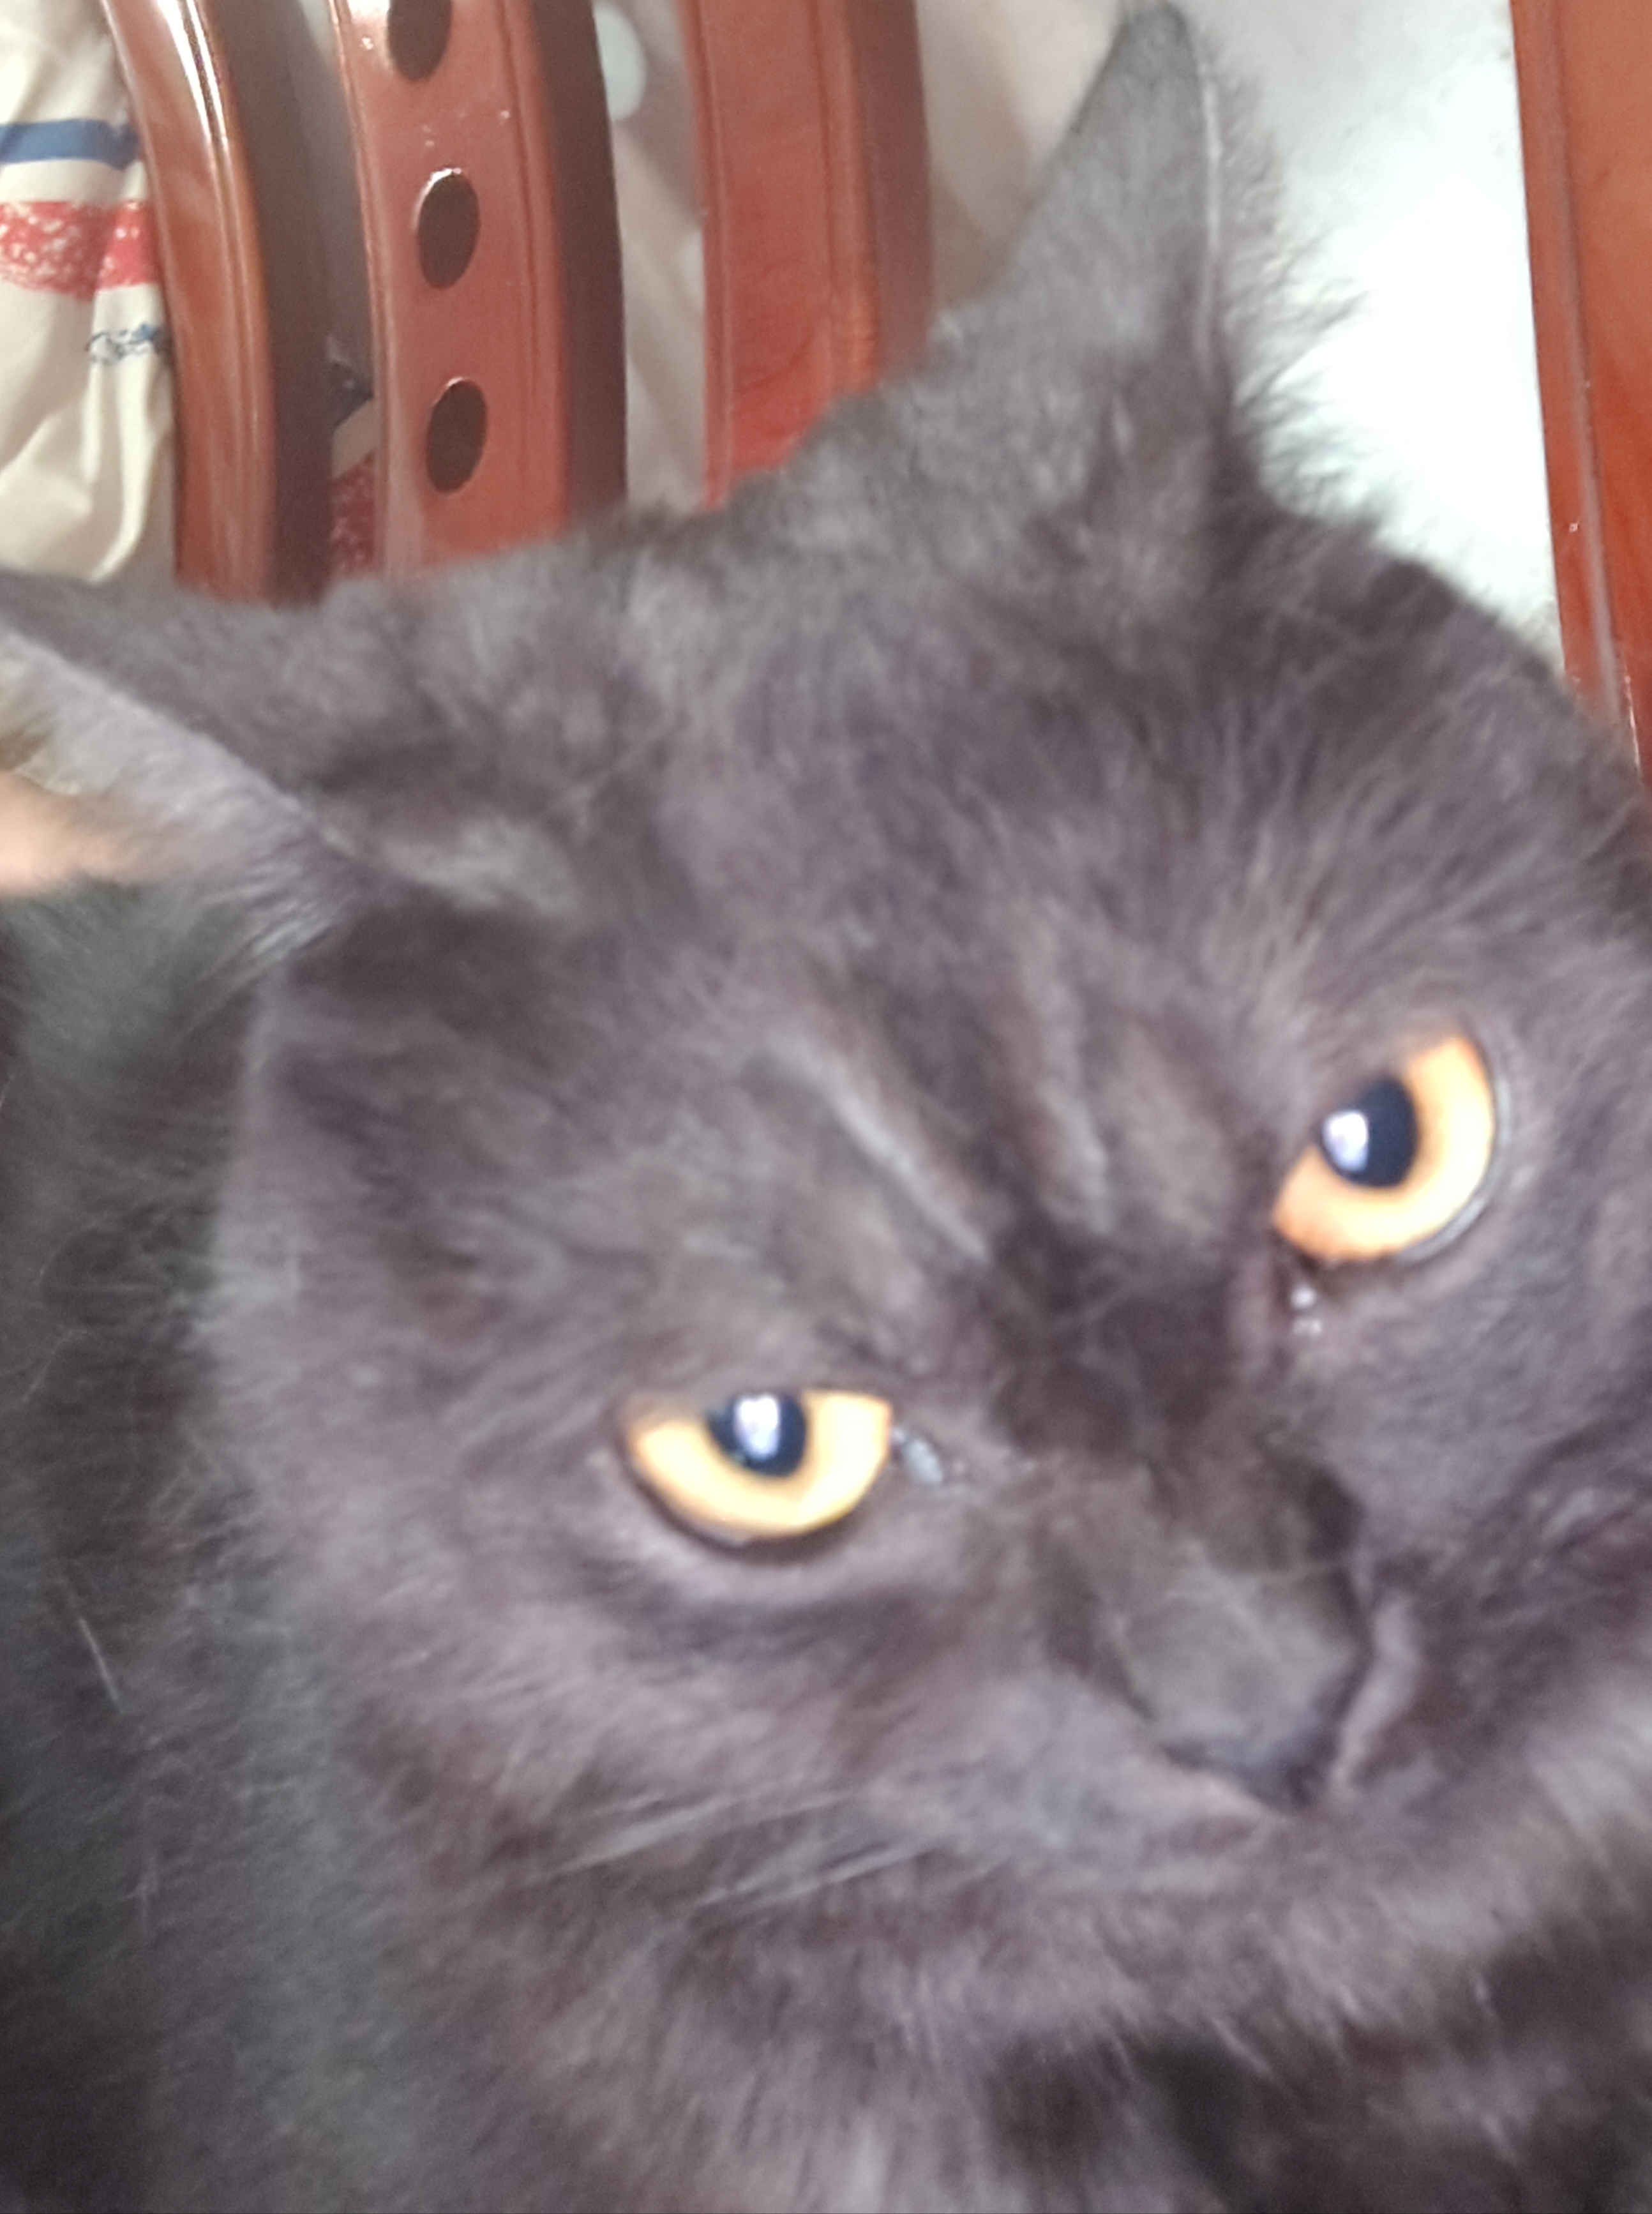black: (26, 540, 1652, 2214)
